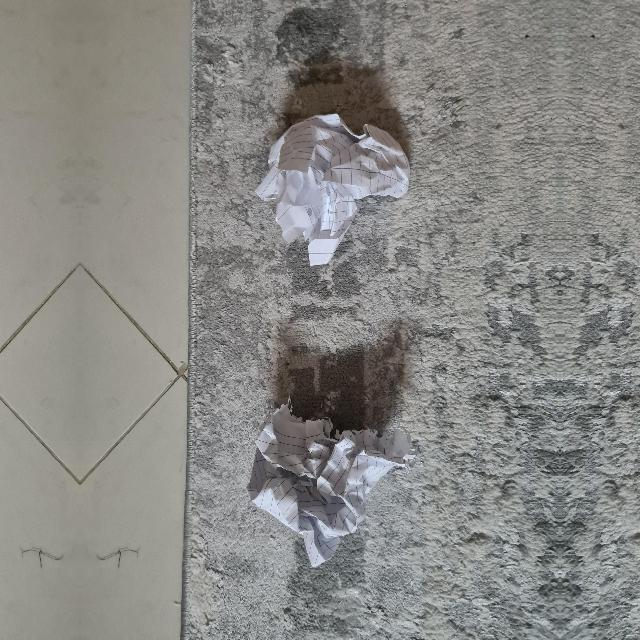paper: (245, 400, 393, 564), (263, 112, 409, 256)
